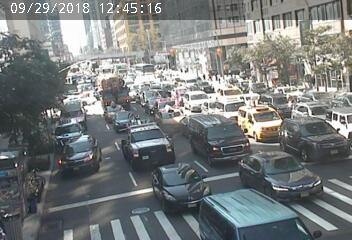car: (217, 197, 271, 233), (292, 121, 340, 160), (204, 120, 246, 162), (254, 158, 301, 191), (250, 107, 289, 136), (169, 167, 200, 199), (129, 126, 156, 155), (64, 144, 98, 166), (99, 79, 121, 100), (153, 109, 180, 124), (303, 106, 328, 120), (221, 97, 241, 114), (184, 92, 208, 106), (333, 110, 352, 126), (57, 124, 81, 135), (117, 111, 133, 127), (224, 82, 239, 98), (103, 105, 119, 119), (145, 90, 163, 102), (155, 99, 174, 110), (136, 64, 154, 75), (64, 105, 82, 115), (196, 79, 208, 92)
